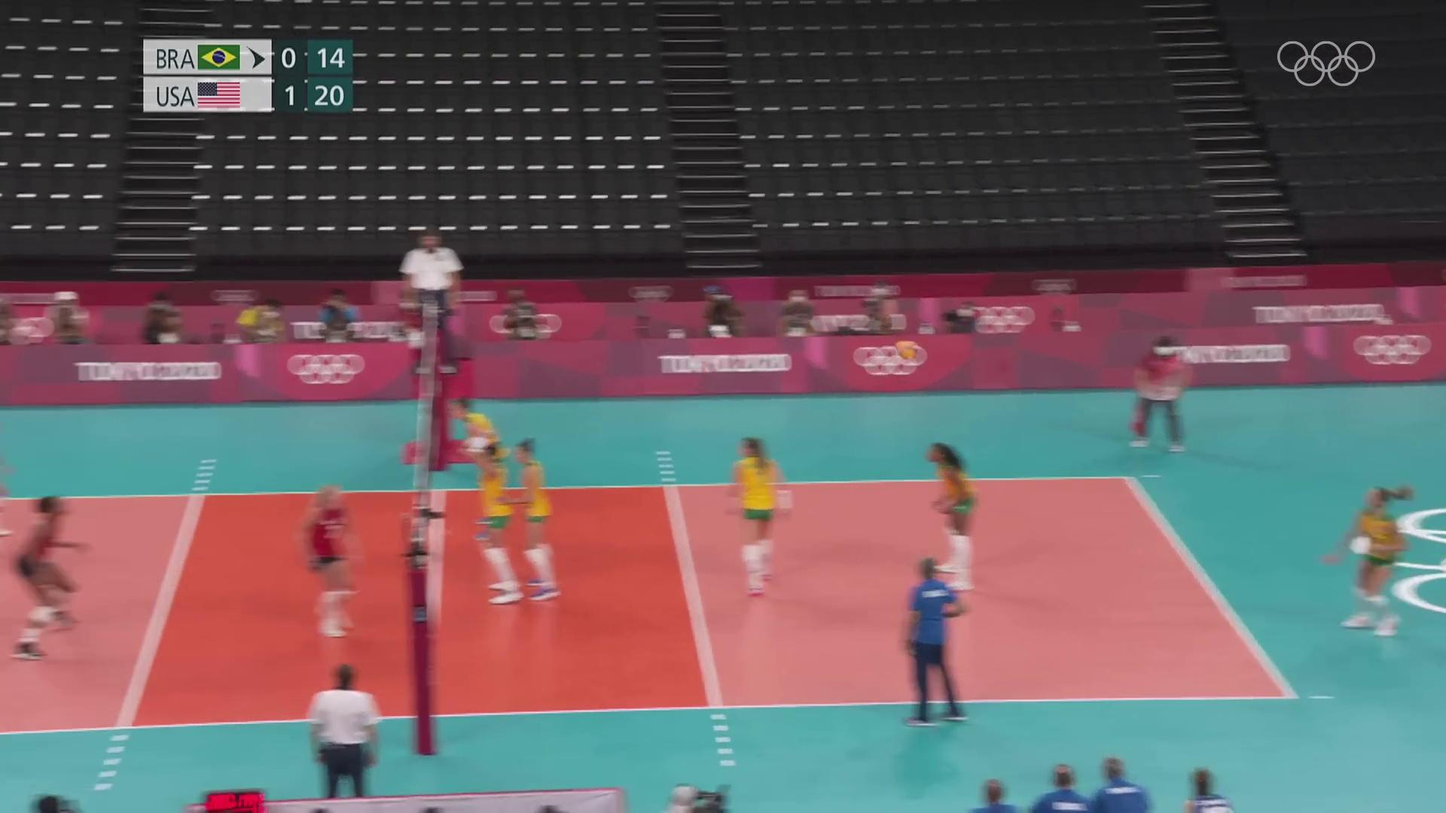player: (1328, 489, 1421, 640), (11, 496, 88, 661), (296, 480, 366, 637), (723, 436, 785, 593), (465, 441, 523, 607), (924, 442, 983, 592), (447, 396, 506, 540), (514, 439, 562, 601)
refree: (304, 665, 381, 797), (401, 230, 463, 374), (1133, 336, 1194, 453)
